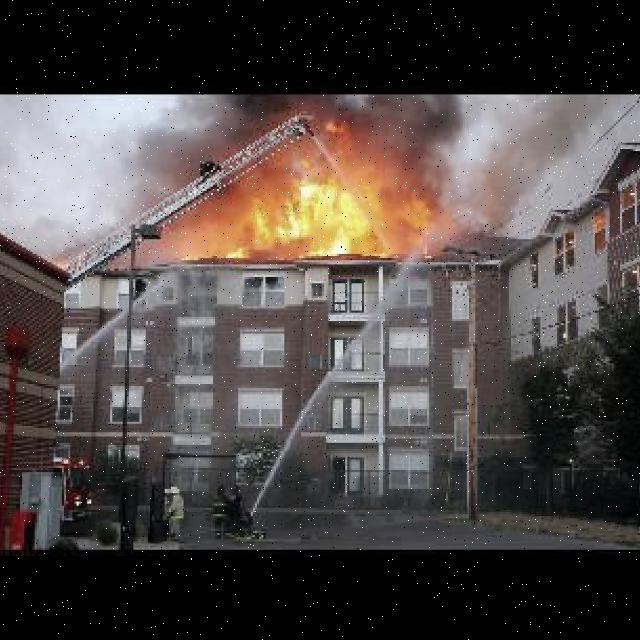fire: (211, 109, 452, 260)
smoke: (462, 99, 590, 233)
